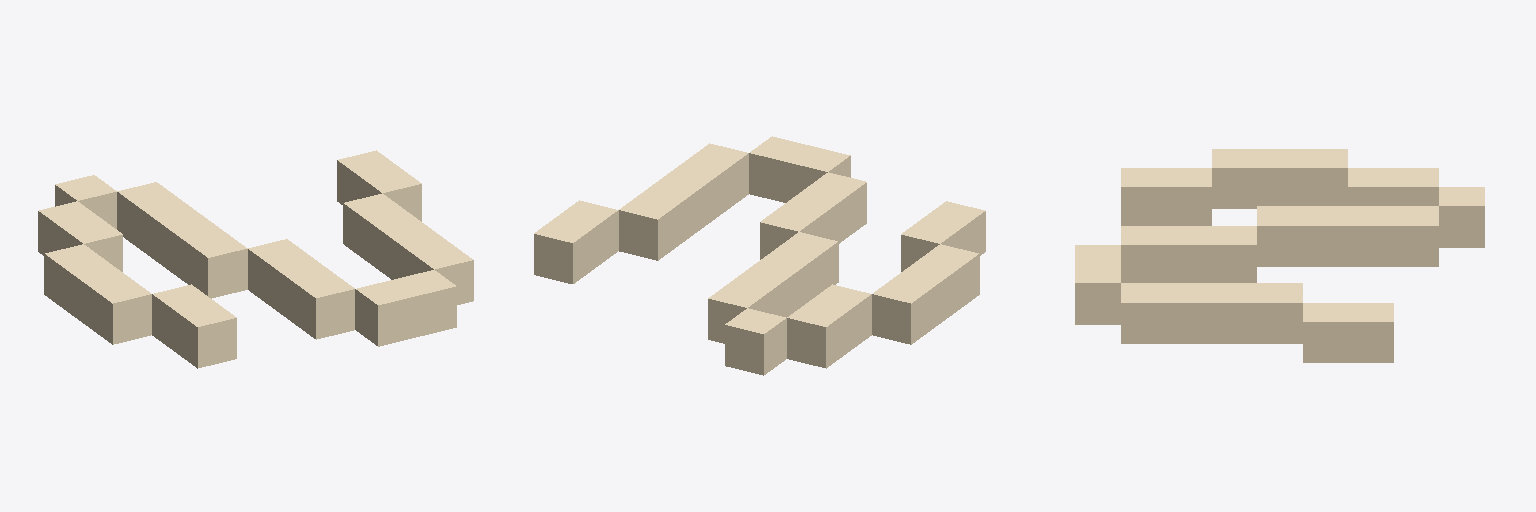
3 renders of one model, left to right at view 1: azimuth 30°, elevation 25°; view 2: azimuth 150°, elevation 25°; view 3: azimuth 270°, elevation 25°, orthographic.
Visible parts, largest first — view 1: object 1; view 2: object 1; view 3: object 1.
Boxes of the visible parts, x1=… form: object 1: x1=38, y1=150, x2=473, y2=368; object 1: x1=534, y1=136, x2=985, y2=375; object 1: x1=1075, y1=149, x2=1484, y2=362.
Bounding box in the file's own units: 0.9 × 0.1 × 0.9.
Materials: 1 (1 with a texture image).